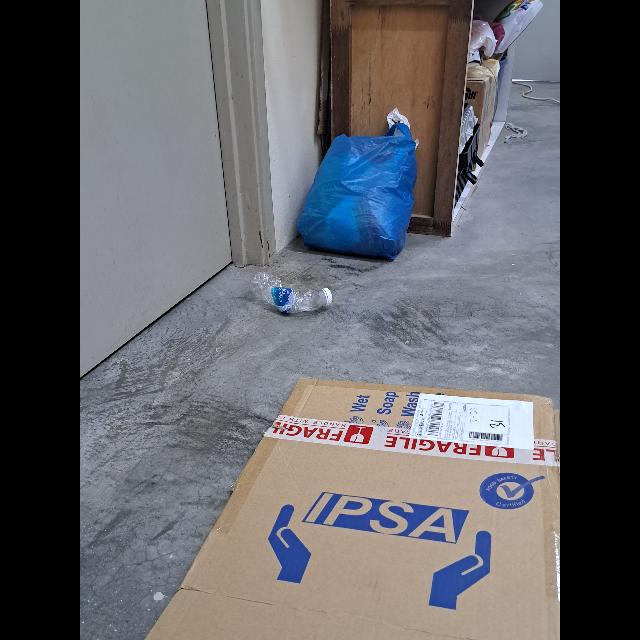garrafa plástica: (251, 271, 335, 319)
sacola plástica: (296, 130, 418, 262)
tampa plástica: (320, 284, 336, 310)
